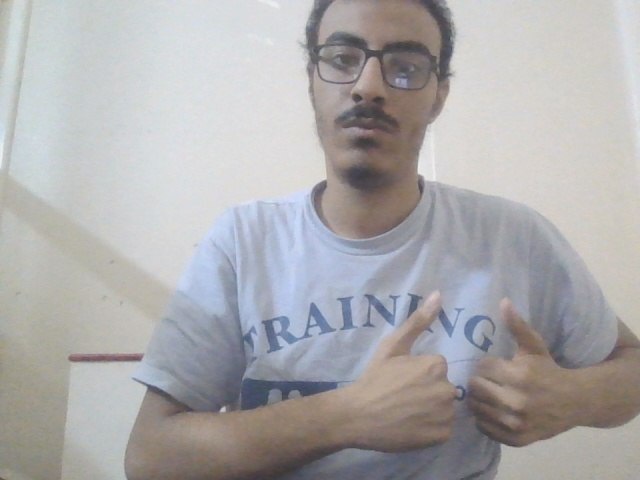Help: (350, 285, 580, 465)
